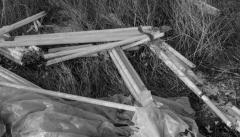lightbulb: (7, 45, 43, 65), (176, 0, 220, 16)
